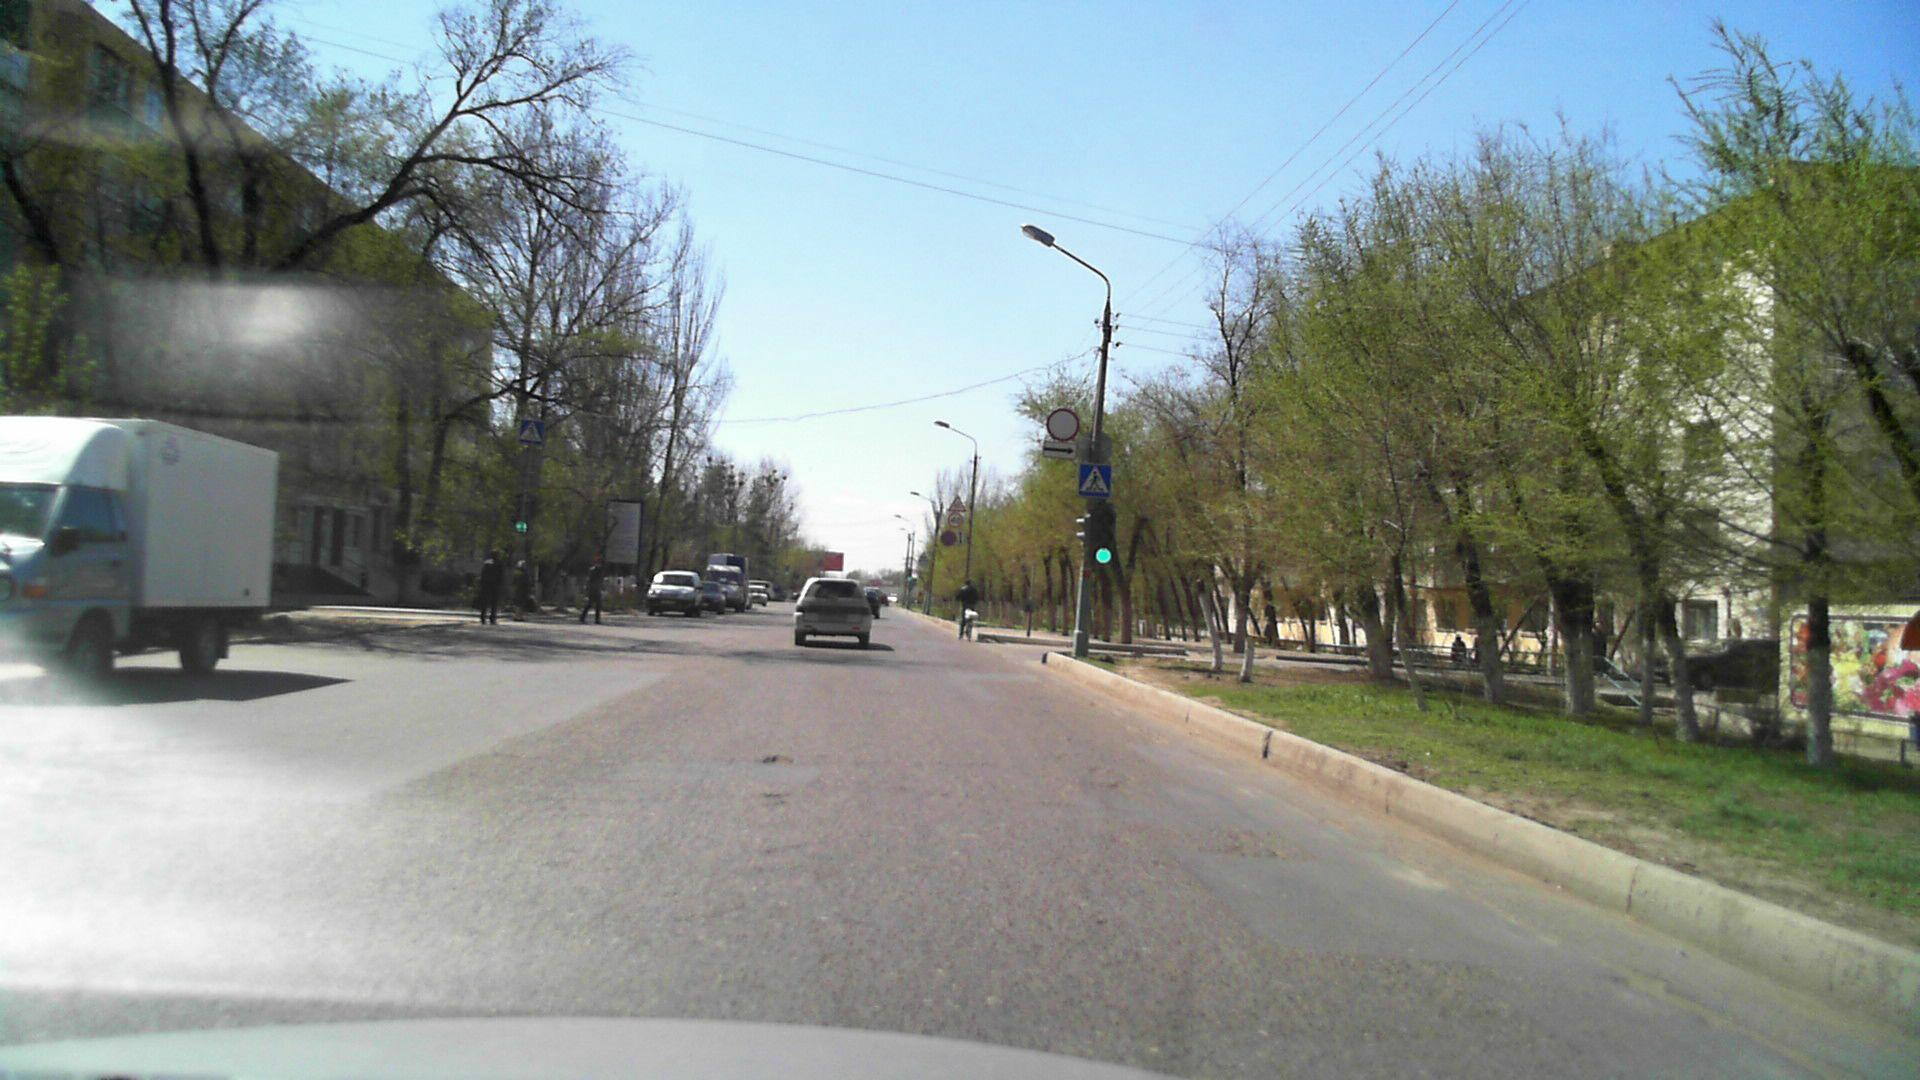3_2: (1045, 408, 1079, 442)
3_24: (948, 495, 967, 512), (948, 512, 963, 527)
3_27: (941, 531, 955, 546)
5_19_1: (1080, 463, 1109, 495)
5_19_2: (517, 417, 547, 445)
8_2_4: (957, 532, 965, 544)
8_3_1: (1041, 442, 1076, 460)
